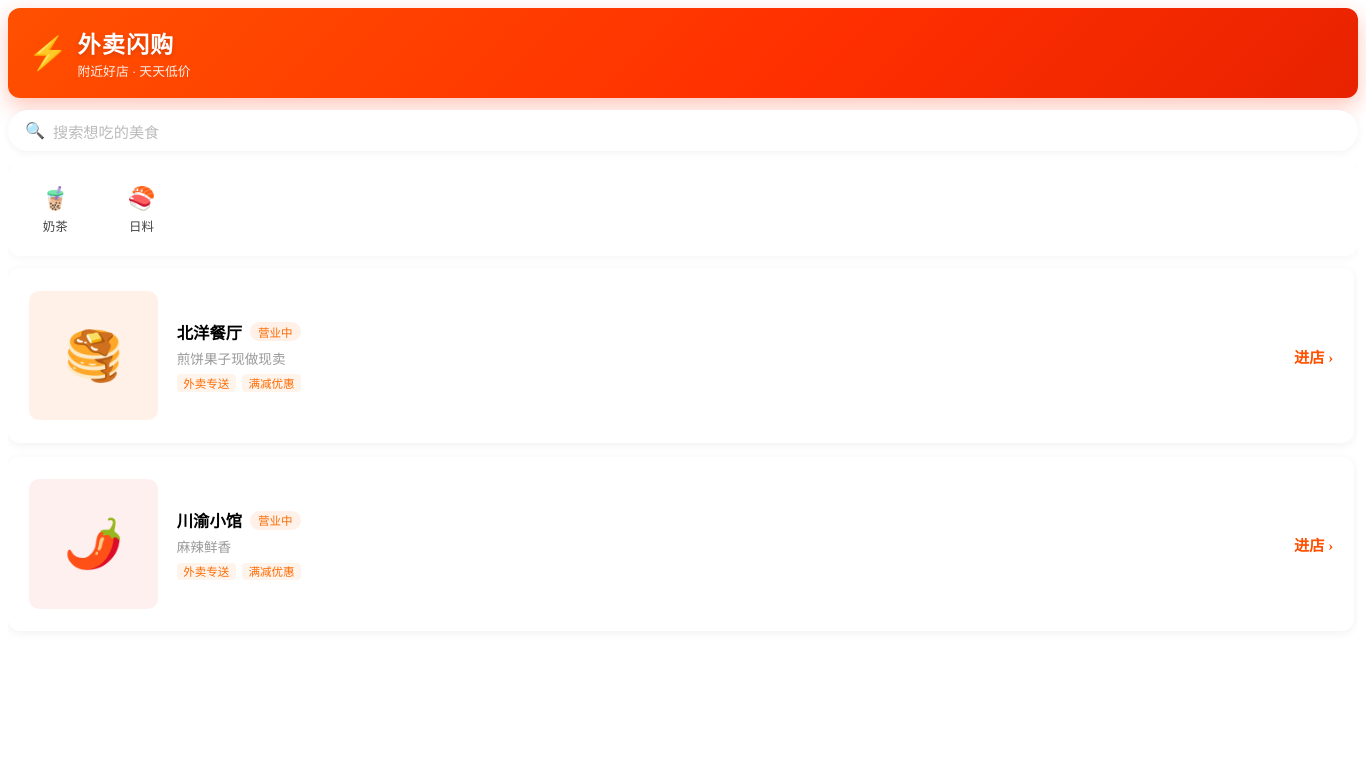
Scenario: 首页店铺流（分页） › 快速切换经营品类时只显示最后选中的店铺列表
The width and height of the screenshot is (1366, 768).
Click the button with test id "home-category-2": (55, 210) [16,178,94,242]
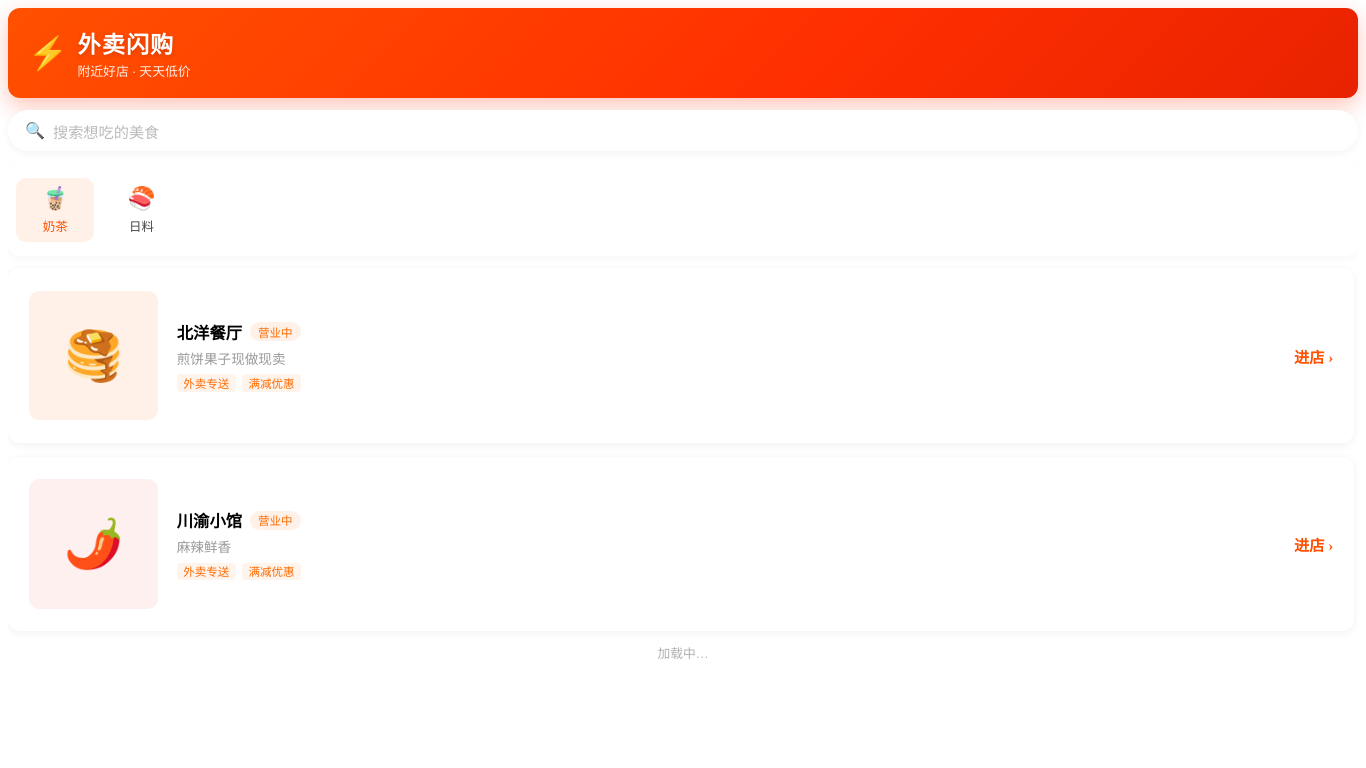
Click the button with test id "home-category-3": (142, 210) [102,178,181,242]
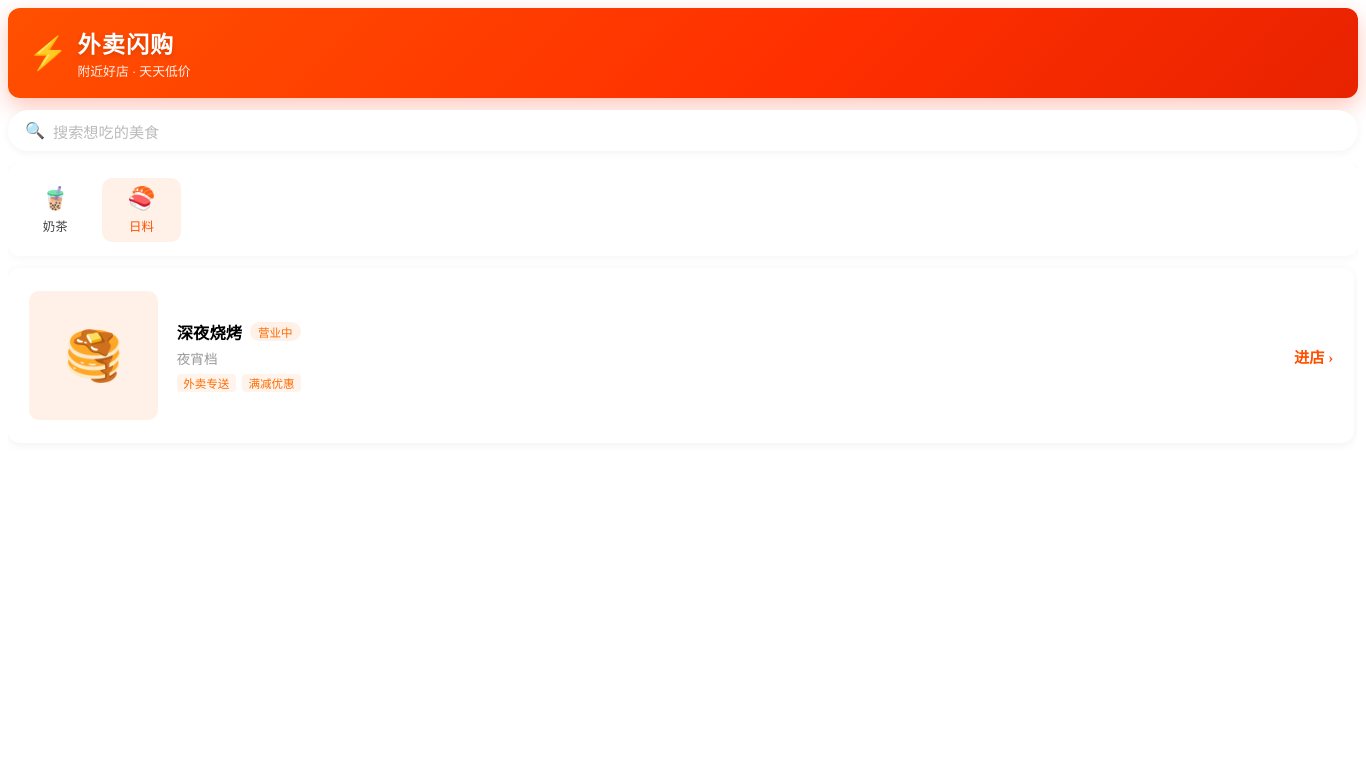
Expected: the link with test id "home-shop-3" shows "深夜烧烤", [8,268,1354,443]
